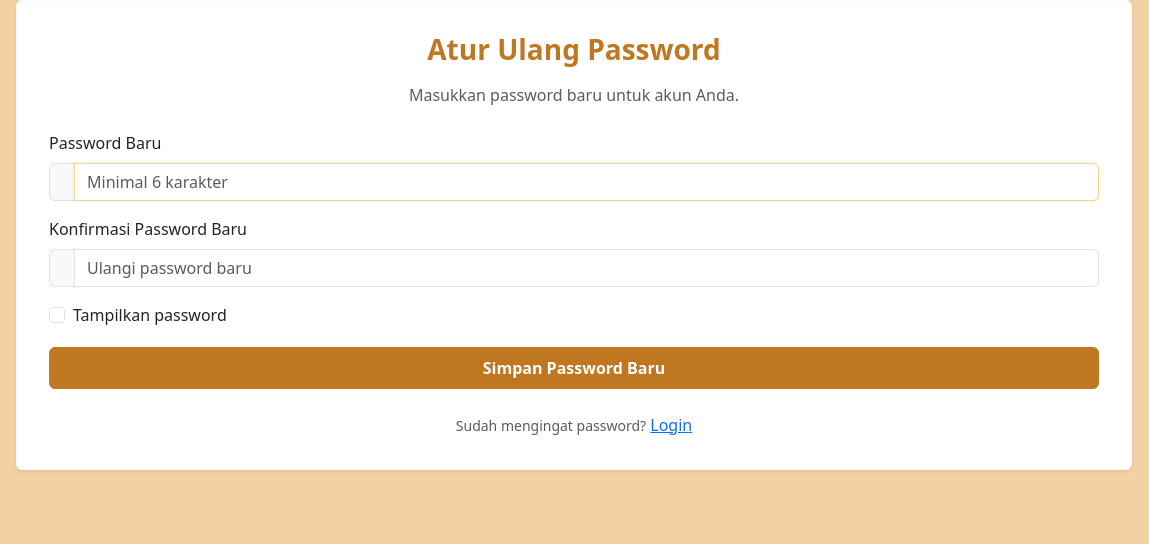
Scenario: Halaman ResetPasswordPage › menampilkan error bila password dan konfirmasi tidak sama
The width and height of the screenshot is (1149, 544).
Step 1. Type "rahasia123" into the password field labelled "Password Baru" → (586, 182), box [74,163,1099,201]
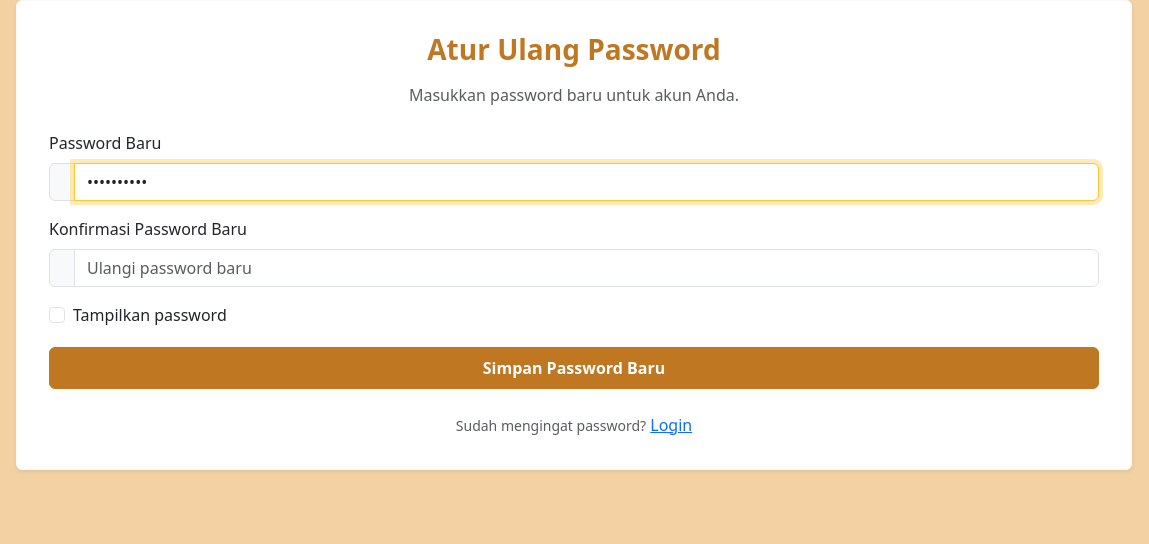
Step 2. Type "rahasia124" into the password field labelled "Konfirmasi Password Baru" → (586, 268), box [74,249,1099,287]
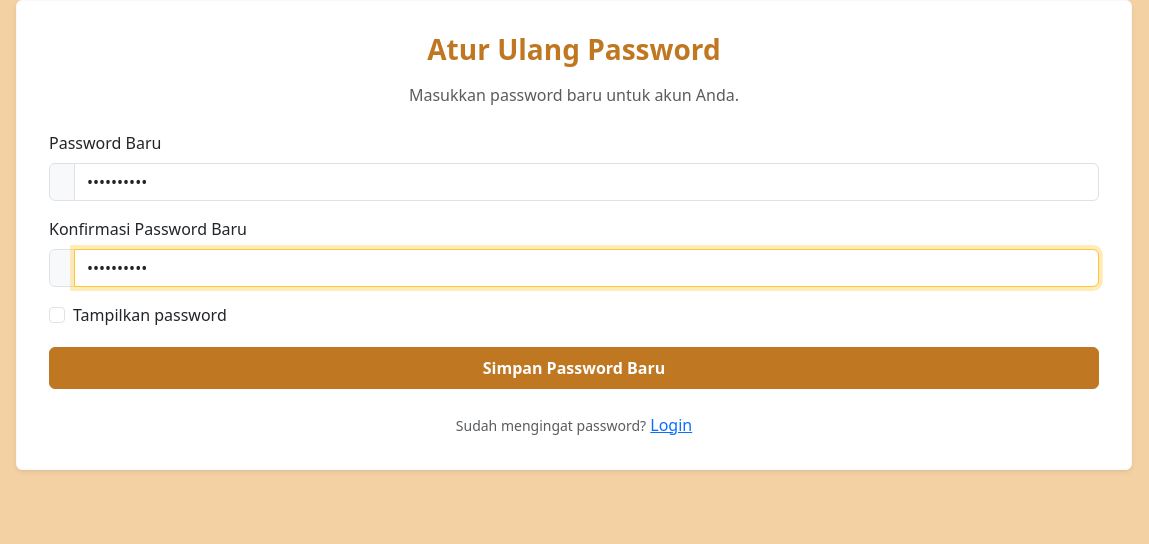
Step 3. Click the button "Simpan Password Baru" → (574, 368), box [49,347,1099,389]
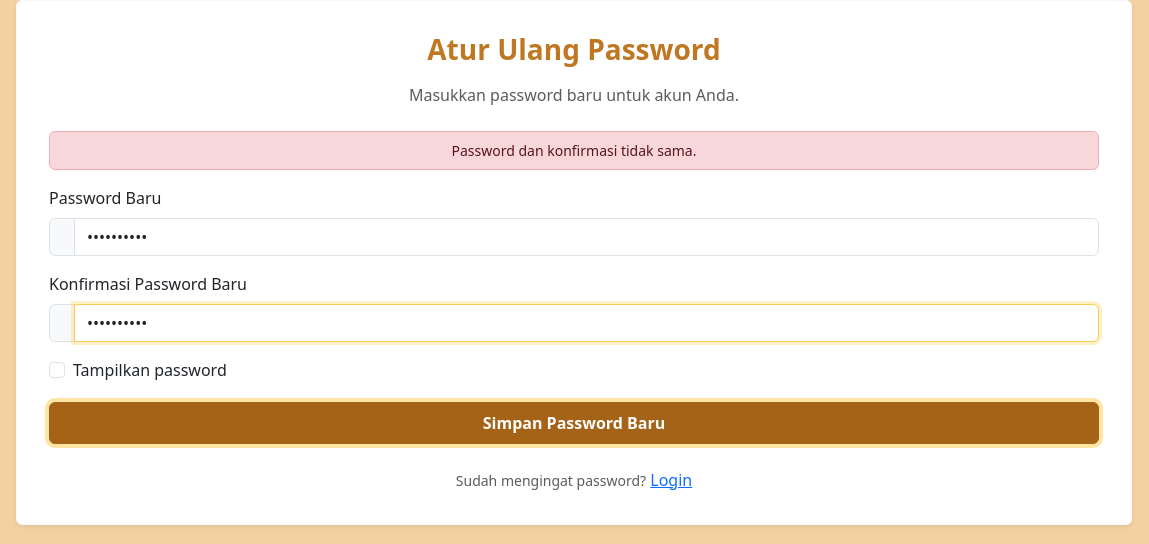
Expected: the text "Password dan konfirmasi tidak sama." is shown, [49,131,1099,170]
